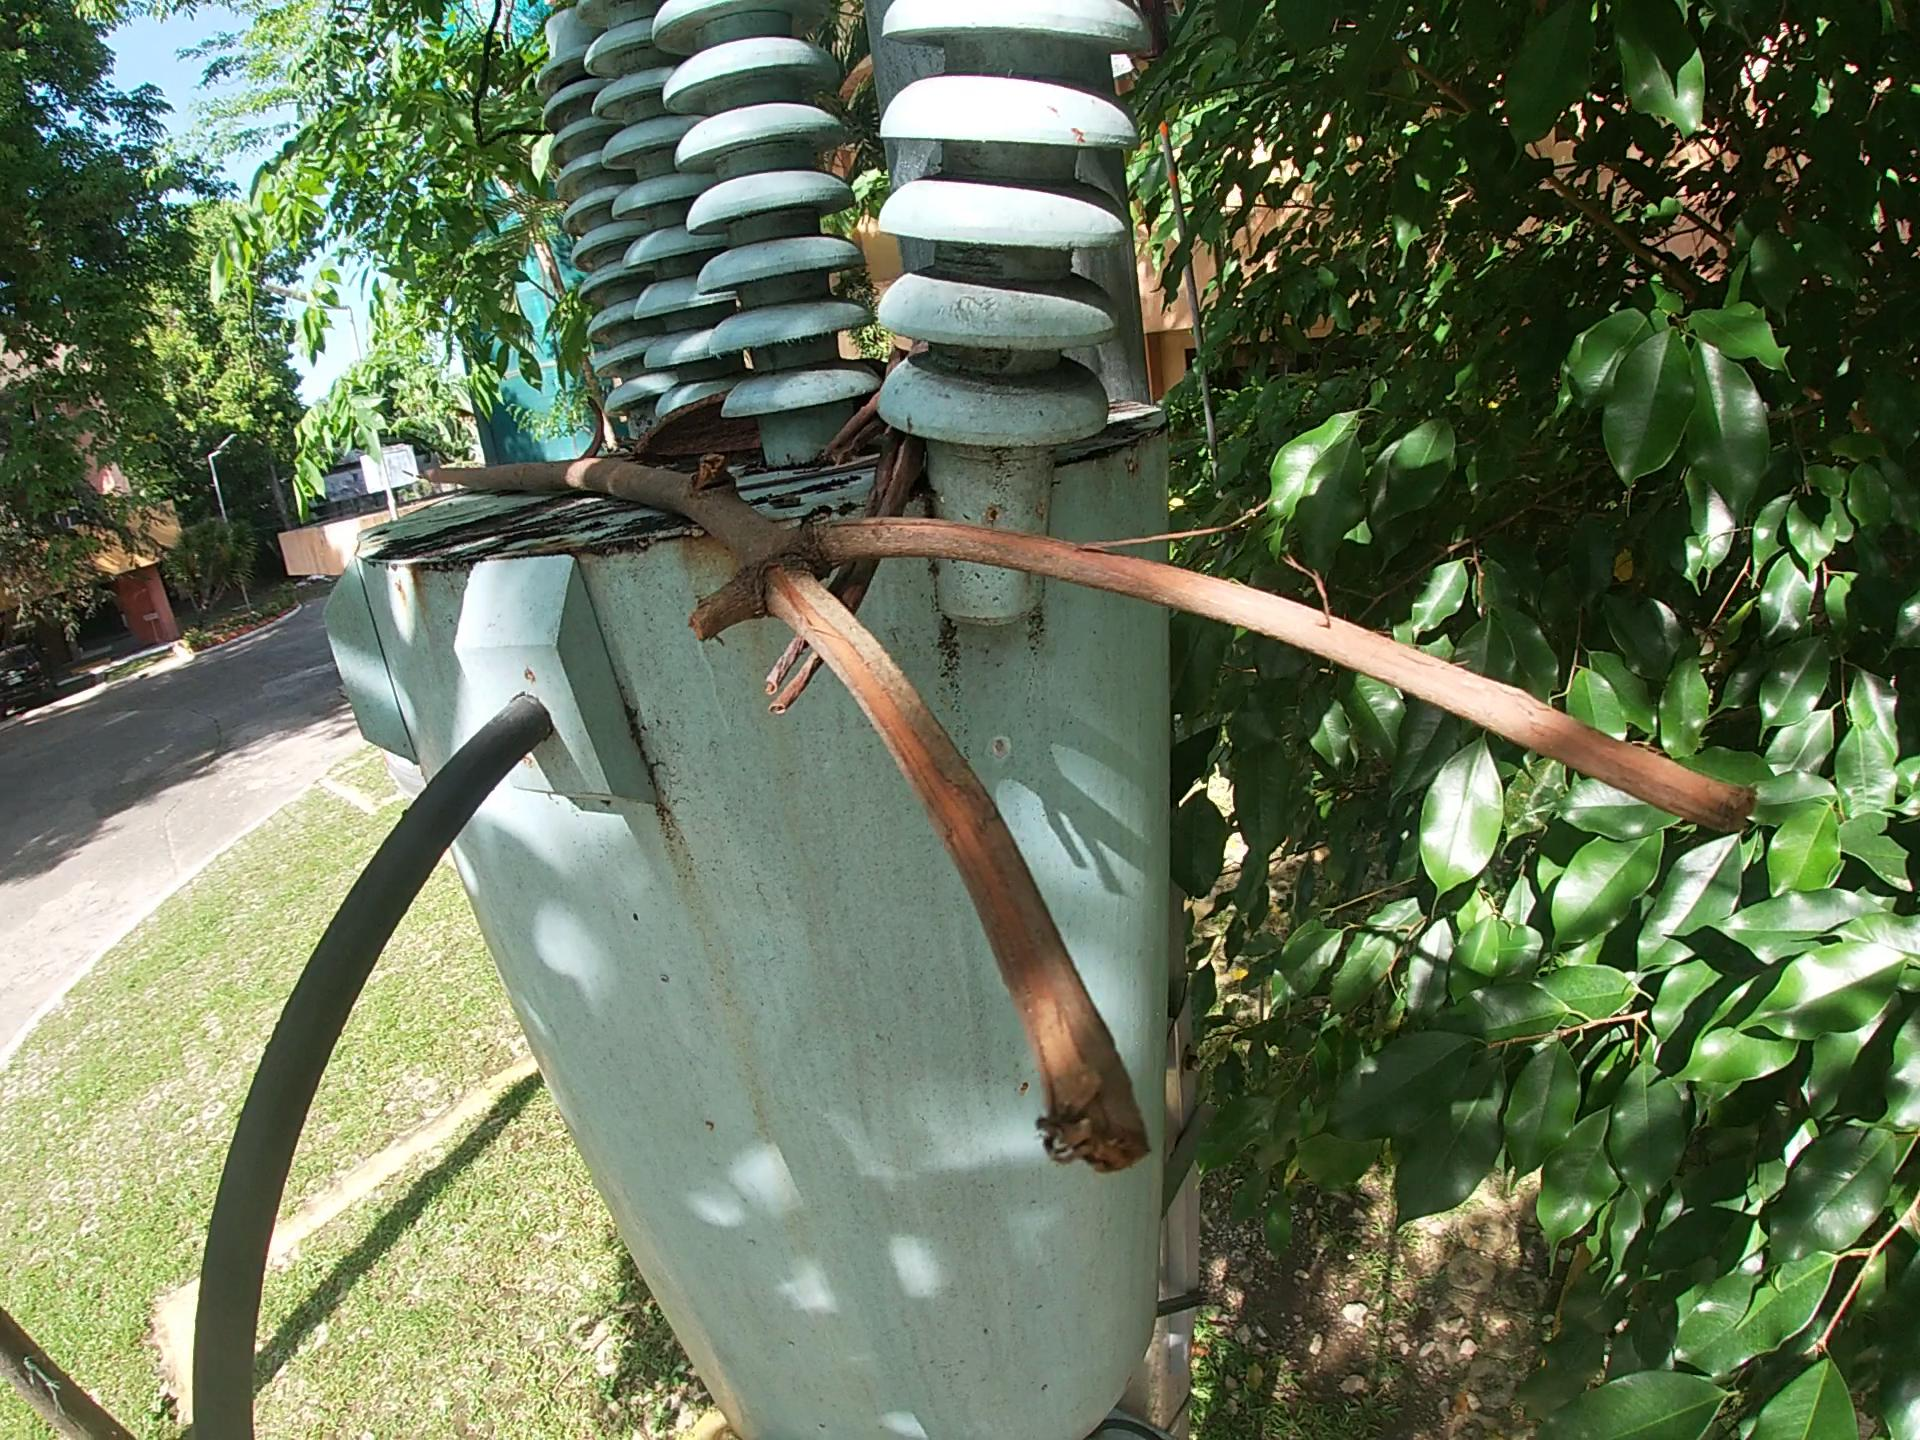mahogany fruit: (629, 387, 763, 467), (571, 396, 611, 464)
tree branch: (414, 445, 1766, 1181), (751, 340, 937, 728)
